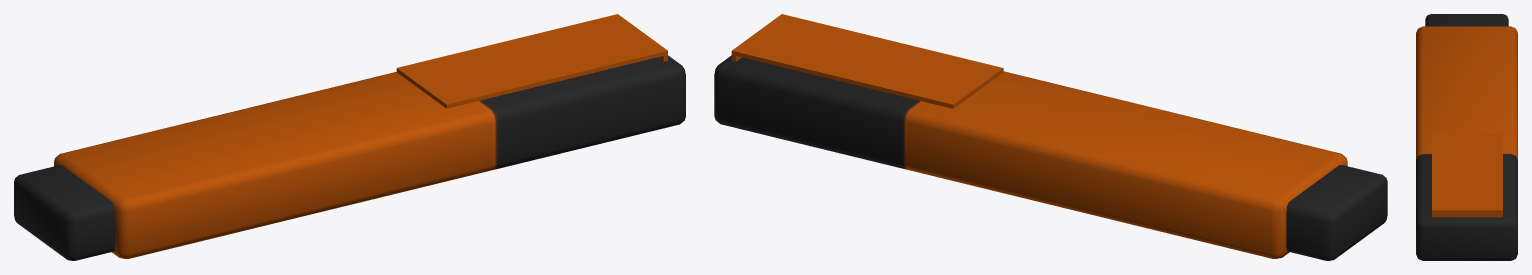
Rendered from marker orange.FBX.
The picture shows the model from 3 angles, left to right: view 1: azimuth 30°, elevation 25°; view 2: azimuth 150°, elevation 25°; view 3: azimuth 270°, elevation 25°; orthographic projection. The views are drawn at different scales.
Visible parts, largest first — view 1: marker orange; view 2: marker orange; view 3: marker orange.
Boxes of the visible parts, bbox=[...] form: marker orange: bbox=[14, 14, 685, 260]; marker orange: bbox=[714, 14, 1387, 260]; marker orange: bbox=[1416, 14, 1517, 260].
Size of the model in its own units: 4.72 by 0.954 by 0.5144.
1 material, 1 textured.
